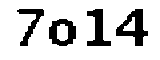1: (83, 6, 113, 51)
4: (113, 7, 151, 52)
7: (12, 7, 46, 50)
o: (46, 16, 80, 49)
